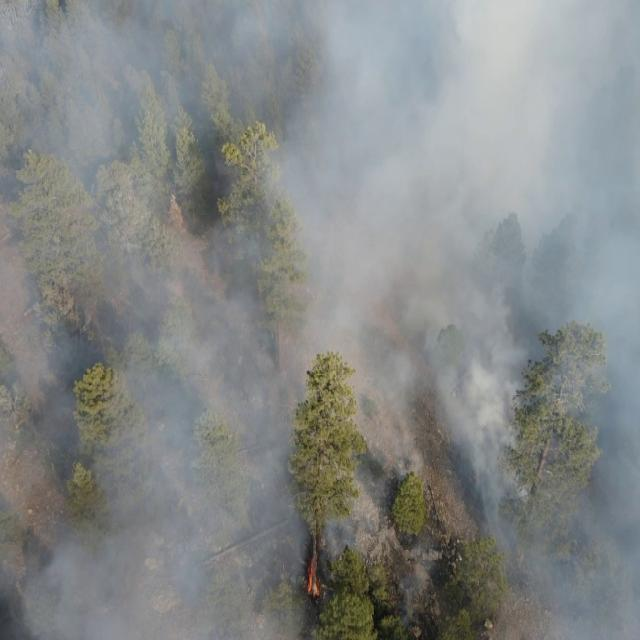fire: (306, 552, 322, 598)
smoke: (0, 0, 297, 640), (297, 0, 640, 354), (496, 352, 640, 640), (430, 354, 496, 541), (346, 356, 392, 550), (391, 354, 429, 476), (395, 564, 430, 625), (324, 516, 344, 560), (297, 354, 313, 398)
